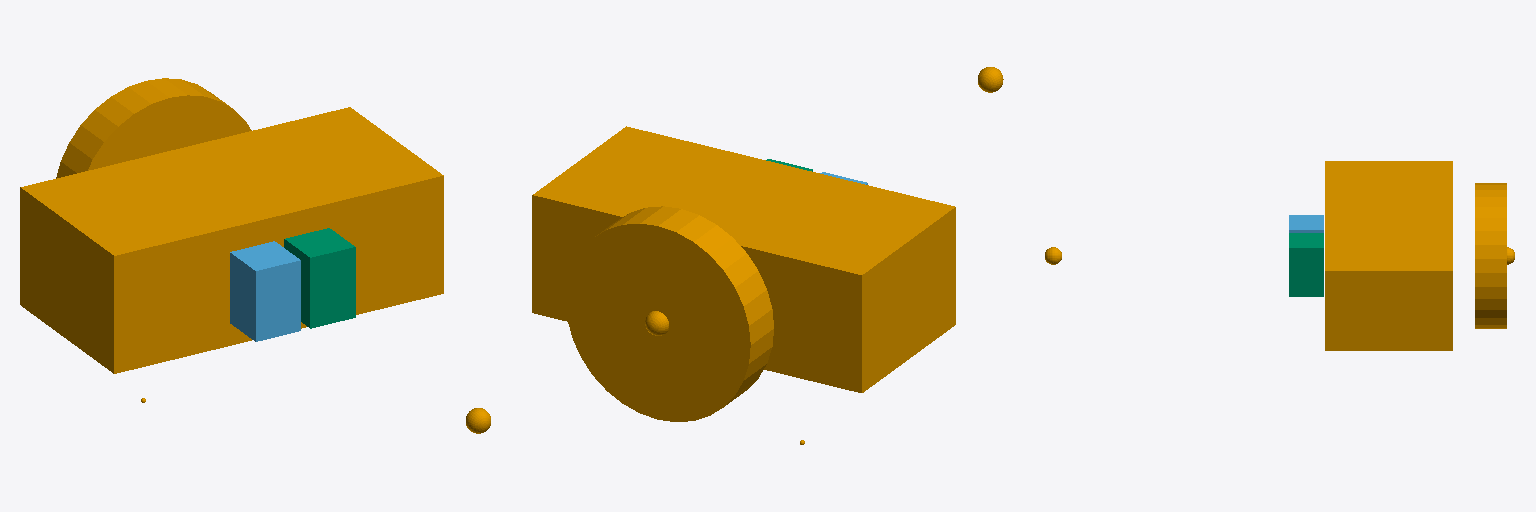
robot.urdf — FR5_V6_WSG50:
<?xml version="1.0" encoding="UTF-8"?>
<robot name="FR5_V6_WSG50">
  <link name="world"/>
  <!-- base_joint fixes base_link to the environment -->
  <joint name="base_joint" type="fixed">
    <origin rpy="0 0 0" xyz="0 0 0"/>
    <parent link="world"/>
    <child link="FR5_base_link"/>
  </joint>
  <joint name="shoulder_pan_joint" type="revolute">
    <origin xyz="0. 0. 0.152" rpy="0. 0. 0."/>
    <parent link="FR5_base_link"/>
    <child link="FR5_link1"/>
    <axis xyz="0. 0. 1."/>
    <limit lower="-3.1414997" upper="3.1414997" effort="0." velocity="2.1"/>
  </joint>
  <joint name="shoulder_lift_joint" type="revolute">
    <origin xyz="0. 0. 0." rpy="1.5708 0. 0. "/>
    <parent link="FR5_link1"/>
    <child link="FR5_link2"/>
    <axis xyz="0. 0. 1."/>
    <limit lower="-4.7119996" upper="1.5699999" effort="0." velocity="2.1"/>
  </joint>
  <joint name="elbow_joint" type="revolute">
    <origin xyz="-0.425 0. 0. " rpy="0. 0. 0."/>
    <parent link="FR5_link2"/>
    <child link="FR5_link3"/>
    <axis xyz="0. 0. 1."/>
    <limit lower="-3.1414997" upper="3.1414997" effort="0." velocity="3.14"/>
  </joint>
  <joint name="wrist_1_joint" type="revolute">
    <origin xyz="-0.395 0. 0.102" rpy="0. 0. 0."/>
    <parent link="FR5_link3"/>
    <child link="FR5_link4"/>
    <axis xyz="0. 0. 1."/>
    <limit lower="-4.7119996" upper="1.5699999" effort="0." velocity="2.1"/>
  </joint>
  <joint name="wrist_2_joint" type="revolute">
    <origin xyz="0. -0.102 0. " rpy="1.5708 0. 0. "/>
    <parent link="FR5_link4"/>
    <child link="FR5_link5"/>
    <axis xyz="0. 0. 1."/>
    <limit lower="-3.1414997" upper="3.1414997" effort="0." velocity="2.1"/>
  </joint>
  <joint name="wrist_3_joint" type="revolute">
    <origin xyz="0. 0.1 0. " rpy="-1.5708 0. 0. "/>
    <parent link="FR5_link5"/>
    <child link="FR5_link6"/>
    <axis xyz="0. 0. 1."/>
    <limit lower="-3.1414997" upper="3.1414997" effort="0." velocity="2.1"/>
  </joint>
  <joint name="FixedJoint" type="fixed">
    <origin xyz="-0.0000105 0.0000847 0.0000004" rpy="-0.0000037 -0.0000003 -0.0001019"/>
    <parent link="FR5_link6"/>
    <child link="base"/>
    <limit lower="0." upper="0." effort="0." velocity="0."/>
  </joint>
  <joint name="left_driver_joint" type="prismatic">
    <origin xyz="-0.0001773 0. 0.102 " rpy="0. 0.0000001 -1.5707966"/>
    <parent link="base"/>
    <child link="left_finger"/>
    <axis xyz="0. -1. 0."/>
    <limit lower="0." upper="0.054" effort="0." velocity="0.5"/>
  </joint>
  <joint name="right_driver_joint" type="prismatic">
    <origin xyz="0. 0. 0.102" rpy="-0. 0.0000001 1.5707961"/>
    <parent link="base"/>
    <child link="right_finger"/>
    <axis xyz="0. -1. 0."/>
    <limit lower="0." upper="0.054" effort="0." velocity="0.5"/>
  </joint>

  <link name="FR5_base_link">
    <inertial>
      <origin xyz="0. 0. 0." rpy="0. 0. 0."/>
      <mass value="1.6185"/>
      <inertia ixx="0." ixy="0." ixz="0." iyy="0." iyz="0." izz="0."/>
    </inertial>
    <visual>
      <origin xyz="0. 0. 0." rpy="0. 0. 0."/>
      <geometry>
        <mesh filename="[local-path]/Documents/isaacsim_usd/FR5_V6/meshes/fr5_wsg50/FR5_base_link_visuals.obj" scale="1. 1. 1."/>
      </geometry>
    </visual>
    <collision>
      <origin xyz="0. 0. 0." rpy="0. 0. 0."/>
      <geometry>
        <mesh filename="[local-path]/Documents/isaacsim_usd/FR5_V6/meshes/fr5_wsg50/FR5_base_link_collisions.obj" scale="1. 1. 1."/>
      </geometry>
    </collision>
  </link>
  <link name="FR5_link1">
    <inertial>
      <origin xyz="0. 0. 0." rpy="0. 0. 0."/>
      <mass value="4.6399999"/>
      <inertia ixx="0." ixy="0." ixz="0." iyy="0." iyz="0." izz="0."/>
    </inertial>
    <visual>
      <origin xyz="0. 0. 0." rpy="0. 0. 0."/>
      <geometry>
        <mesh filename="[local-path]/Documents/isaacsim_usd/FR5_V6/meshes/fr5_wsg50/FR5_link1_visuals.obj" scale="1. 1. 1."/>
      </geometry>
    </visual>
    <collision>
      <origin xyz="0. 0. 0." rpy="0. 0. 0."/>
      <geometry>
        <mesh filename="[local-path]/Documents/isaacsim_usd/FR5_V6/meshes/fr5_wsg50/FR5_link1_collisions.obj" scale="1. 1. 1."/>
      </geometry>
    </collision>
  </link>
  <link name="FR5_link2">
    <inertial>
      <origin xyz="0. 0. 0." rpy="0. 0. 0."/>
      <mass value="10.0799999"/>
      <inertia ixx="0." ixy="0." ixz="0." iyy="0." iyz="0." izz="0."/>
    </inertial>
    <visual>
      <origin xyz="0. 0. 0." rpy="0. 0. 0."/>
      <geometry>
        <mesh filename="[local-path]/Documents/isaacsim_usd/FR5_V6/meshes/fr5_wsg50/FR5_link2_visuals.obj" scale="1. 1. 1."/>
      </geometry>
    </visual>
    <collision>
      <origin xyz="0. 0. 0." rpy="0. 0. 0."/>
      <geometry>
        <mesh filename="[local-path]/Documents/isaacsim_usd/FR5_V6/meshes/fr5_wsg50/FR5_link2_collisions.obj" scale="1. 1. 1."/>
      </geometry>
    </collision>
  </link>
  <link name="FR5_link3">
    <inertial>
      <origin xyz="0. 0. 0." rpy="0. 0. 0."/>
      <mass value="2.71"/>
      <inertia ixx="0." ixy="0." ixz="0." iyy="0." iyz="0." izz="0."/>
    </inertial>
    <visual>
      <origin xyz="0. 0. 0." rpy="0. 0. 0."/>
      <geometry>
        <mesh filename="[local-path]/Documents/isaacsim_usd/FR5_V6/meshes/fr5_wsg50/FR5_link3_visuals.obj" scale="1. 1. 1."/>
      </geometry>
    </visual>
    <collision>
      <origin xyz="0. 0. 0." rpy="0. 0. 0."/>
      <geometry>
        <mesh filename="[local-path]/Documents/isaacsim_usd/FR5_V6/meshes/fr5_wsg50/FR5_link3_collisions.obj" scale="1. 1. 1."/>
      </geometry>
    </collision>
  </link>
  <link name="FR5_link4">
    <inertial>
      <origin xyz="0. 0. 0." rpy="0. 0. 0."/>
      <mass value="1.5599999"/>
      <inertia ixx="0." ixy="0." ixz="0." iyy="0." iyz="0." izz="0."/>
    </inertial>
    <visual>
      <origin xyz="0. 0. 0." rpy="0. 0. 0."/>
      <geometry>
        <mesh filename="[local-path]/Documents/isaacsim_usd/FR5_V6/meshes/fr5_wsg50/FR5_link4_visuals.obj" scale="1. 1. 1."/>
      </geometry>
    </visual>
    <collision>
      <origin xyz="0. 0. 0." rpy="0. 0. 0."/>
      <geometry>
        <mesh filename="[local-path]/Documents/isaacsim_usd/FR5_V6/meshes/fr5_wsg50/FR5_link4_collisions.obj" scale="1. 1. 1."/>
      </geometry>
    </collision>
  </link>
  <link name="FR5_link5">
    <inertial>
      <origin xyz="0. 0. 0." rpy="0. 0. 0."/>
      <mass value="1.5599999"/>
      <inertia ixx="0." ixy="0." ixz="0." iyy="0." iyz="0." izz="0."/>
    </inertial>
    <visual>
      <origin xyz="0. 0. 0." rpy="0. 0. 0."/>
      <geometry>
        <mesh filename="[local-path]/Documents/isaacsim_usd/FR5_V6/meshes/fr5_wsg50/FR5_link5_visuals.obj" scale="1. 1. 1."/>
      </geometry>
    </visual>
    <collision>
      <origin xyz="0. 0. 0." rpy="0. 0. 0."/>
      <geometry>
        <mesh filename="[local-path]/Documents/isaacsim_usd/FR5_V6/meshes/fr5_wsg50/FR5_link5_collisions.obj" scale="1. 1. 1."/>
      </geometry>
    </collision>
  </link>
  <link name="FR5_link6">
    <inertial>
      <origin xyz="0. 0. 0." rpy="0. 0. 0."/>
      <mass value="0.36"/>
      <inertia ixx="0." ixy="0." ixz="0." iyy="0." iyz="0." izz="0."/>
    </inertial>
    <visual>
      <origin xyz="0. 0. 0." rpy="0. 0. 0."/>
      <geometry>
        <mesh filename="[local-path]/Documents/isaacsim_usd/FR5_V6/meshes/fr5_wsg50/FR5_link6_visuals.obj" scale="1. 1. 1."/>
      </geometry>
    </visual>
    <collision>
      <origin xyz="0. 0. 0." rpy="0. 0. 0."/>
      <geometry>
        <mesh filename="[local-path]/Documents/isaacsim_usd/FR5_V6/meshes/fr5_wsg50/FR5_link6_collisions.obj" scale="1. 1. 1."/>
      </geometry>
    </collision>
  </link>
  <link name="base">
    <visual>
      <origin xyz="0. 0. 0.009" rpy="0. 0. 0."/>
      <geometry>
        <cylinder radius="0.041" length="0.018"/>
      </geometry>
    </visual>
    <visual>
      <origin xyz="0. 0. 0.008" rpy="0. 0. 1.5707963"/>
      <geometry>
        <mesh filename="[local-path]/Documents/isaacsim_usd/FR5_V6/meshes/fr5_wsg50/collisions__geom_4.obj" scale="1. 1. 1."/>
      </geometry>
    </visual>
    <visual>
      <origin xyz="0. 0. 0.066" rpy="0. 0. 0."/>
      <geometry>
        <box size="0.146 0.05 0.072"/>
      </geometry>
    </visual>
    <visual>
      <origin xyz="0. 0. 0.008" rpy="0. 0. 1.5707963"/>
      <geometry>
        <mesh filename="[local-path]/Documents/isaacsim_usd/FR5_V6/meshes/fr5_wsg50/visuals__geom_2.obj" scale="1. 1. 1."/>
      </geometry>
    </visual>
    <visual>
      <origin xyz="0. 0. 0.03" rpy="0. 0. 0."/>
      <geometry>
        <mesh filename="[local-path]/Documents/isaacsim_usd/FR5_V6/meshes/fr5_wsg50/visuals__geom_5.obj" scale="1. 1. 1."/>
      </geometry>
    </visual>
    <visual>
      <origin xyz="0. 0. 0." rpy="0. 0. 0."/>
      <geometry>
        <sphere radius="0.005"/>
      </geometry>
    </visual>
    <visual>
      <origin xyz="-0.032507 -0.065 0.054202" rpy="0. 0. 0."/>
      <geometry>
        <sphere radius="0.001"/>
      </geometry>
    </visual>
    <visual>
      <origin xyz="0. 0. 0.25491" rpy="0. 0. 0."/>
      <geometry>
        <sphere radius="0.005"/>
      </geometry>
    </visual>
    <collision>
      <origin xyz="0. 0. 0.009" rpy="0. 0. 0."/>
      <geometry>
        <cylinder radius="0.041" length="0.018"/>
      </geometry>
    </collision>
    <collision>
      <origin xyz="0. 0. 0.008" rpy="0. 0. 1.5707963"/>
      <geometry>
        <mesh filename="[local-path]/Documents/isaacsim_usd/FR5_V6/meshes/fr5_wsg50/collisions__geom_3.obj" scale="1. 1. 1."/>
      </geometry>
    </collision>
    <collision>
      <origin xyz="0. 0. 0.008" rpy="0. 0. 1.5707963"/>
      <geometry>
        <mesh filename="[local-path]/Documents/isaacsim_usd/FR5_V6/meshes/fr5_wsg50/collisions__geom_4.obj" scale="1. 1. 1."/>
      </geometry>
    </collision>
    <collision>
      <origin xyz="0. 0. 0.066" rpy="0. 0. 0."/>
      <geometry>
        <box size="0.146 0.05 0.072"/>
      </geometry>
    </collision>
  </link>
  <link name="left_finger">
    <visual>
      <origin xyz="0. 0. 0." rpy="0. 0. 0."/>
      <geometry>
        <mesh filename="[local-path]/Documents/isaacsim_usd/FR5_V6/meshes/fr5_wsg50/collisions__geom_11.obj" scale="1. 1. 1."/>
      </geometry>
    </visual>
    <visual>
      <origin xyz="0. -0.012 0.0105" rpy="0. 0. 0."/>
      <geometry>
        <box size="0.03 0.02 0.02"/>
      </geometry>
    </visual>
    <visual>
      <origin xyz="0. 0. 0." rpy="0. 0. 0."/>
      <geometry>
        <mesh filename="[local-path]/Documents/isaacsim_usd/FR5_V6/meshes/fr5_wsg50/visuals__geom_10.obj" scale="1. 1. 1."/>
      </geometry>
    </visual>
    <collision>
      <origin xyz="0. 0. 0." rpy="0. 0. 0."/>
      <geometry>
        <mesh filename="[local-path]/Documents/isaacsim_usd/FR5_V6/meshes/fr5_wsg50/collisions__geom_11.obj" scale="1. 1. 1."/>
      </geometry>
    </collision>
    <collision>
      <origin xyz="0. -0.012 0.0105" rpy="0. 0. 0."/>
      <geometry>
        <box size="0.03 0.02 0.02"/>
      </geometry>
    </collision>
  </link>
  <link name="right_finger">
    <visual>
      <origin xyz="0. 0. 0." rpy="0. 0. 0."/>
      <geometry>
        <mesh filename="[local-path]/Documents/isaacsim_usd/FR5_V6/meshes/fr5_wsg50/collisions__geom_8.obj" scale="1. 1. 1."/>
      </geometry>
    </visual>
    <visual>
      <origin xyz="0. -0.012 0.0105" rpy="0. 0. 0."/>
      <geometry>
        <box size="0.03 0.02 0.02"/>
      </geometry>
    </visual>
    <visual>
      <origin xyz="0. 0. 0." rpy="0. 0. 0."/>
      <geometry>
        <mesh filename="[local-path]/Documents/isaacsim_usd/FR5_V6/meshes/fr5_wsg50/visuals__geom_7.obj" scale="1. 1. 1."/>
      </geometry>
    </visual>
    <collision>
      <origin xyz="0. 0. 0." rpy="0. 0. 0."/>
      <geometry>
        <mesh filename="[local-path]/Documents/isaacsim_usd/FR5_V6/meshes/fr5_wsg50/collisions__geom_8.obj" scale="1. 1. 1."/>
      </geometry>
    </collision>
    <collision>
      <origin xyz="0. -0.012 0.0105" rpy="0. 0. 0."/>
      <geometry>
        <box size="0.03 0.02 0.02"/>
      </geometry>
    </collision>
  </link>
</robot>

--- What the picture shows (computed from the rendered views, not written in the file) ---
Views: 3 orthographic renders of the robot side by side, from view 1: azimuth 30°, elevation 25°; view 2: azimuth 150°, elevation 25°; view 3: azimuth 270°, elevation 25°.
Model FR5_V6_WSG50 with 11 links and 10 joints (6 revolute, 2 prismatic, 2 fixed), rooted at world, posed all joints at 0.
Links seen in each view (by area): view 1: base, left_finger, right_finger; view 2: base; view 3: base, right_finger, left_finger.
Link boxes in pixels (x1,y1,x2,y2): base: (20, 78, 490, 433); left_finger: (230, 241, 300, 341); right_finger: (284, 228, 355, 328); base: (532, 67, 1003, 444); base: (1045, 161, 1514, 350); right_finger: (1289, 233, 1323, 296); left_finger: (1289, 215, 1323, 232).
Bounding box of the posed robot: 0.146 × 0.2649 × 0.107 m (x, y, z).
Geometry: only primitive shapes (box / cylinder / sphere) drawn; not drawn: 14 mesh visuals (reference in a form the renderer does not follow).